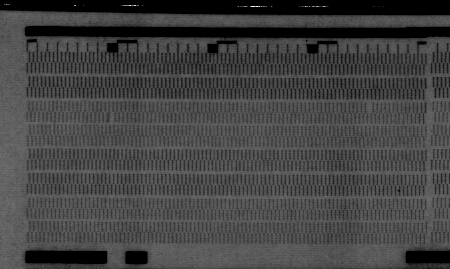Oblique printing: (363, 101, 376, 114), (104, 111, 116, 123)
